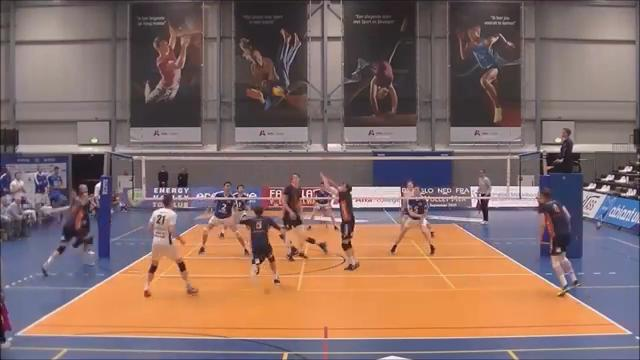Player: (144, 194, 197, 296), (41, 184, 94, 276), (538, 188, 579, 295), (281, 173, 327, 260), (320, 173, 359, 270), (199, 181, 248, 254), (240, 206, 283, 284), (390, 187, 435, 254), (310, 182, 337, 230), (400, 180, 414, 230), (233, 184, 250, 220)
ball: (271, 84, 285, 97)
